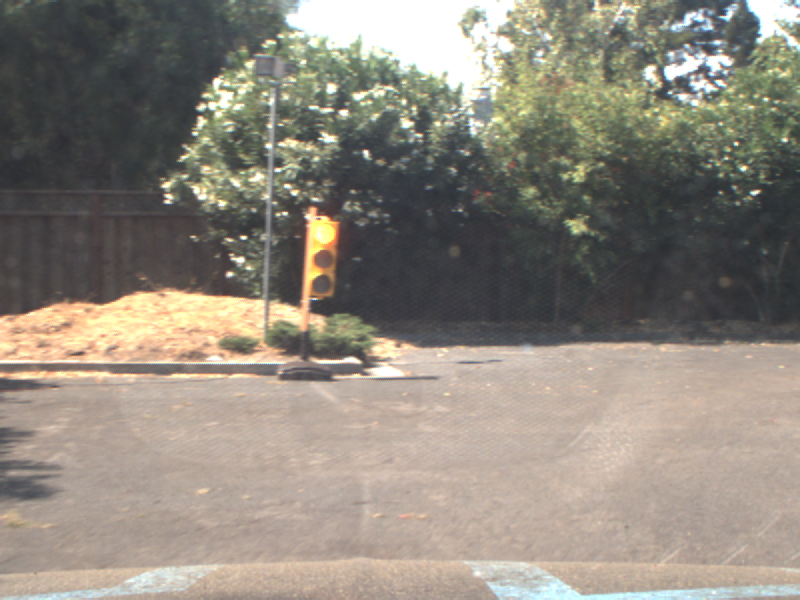red: (302, 210, 337, 299)
